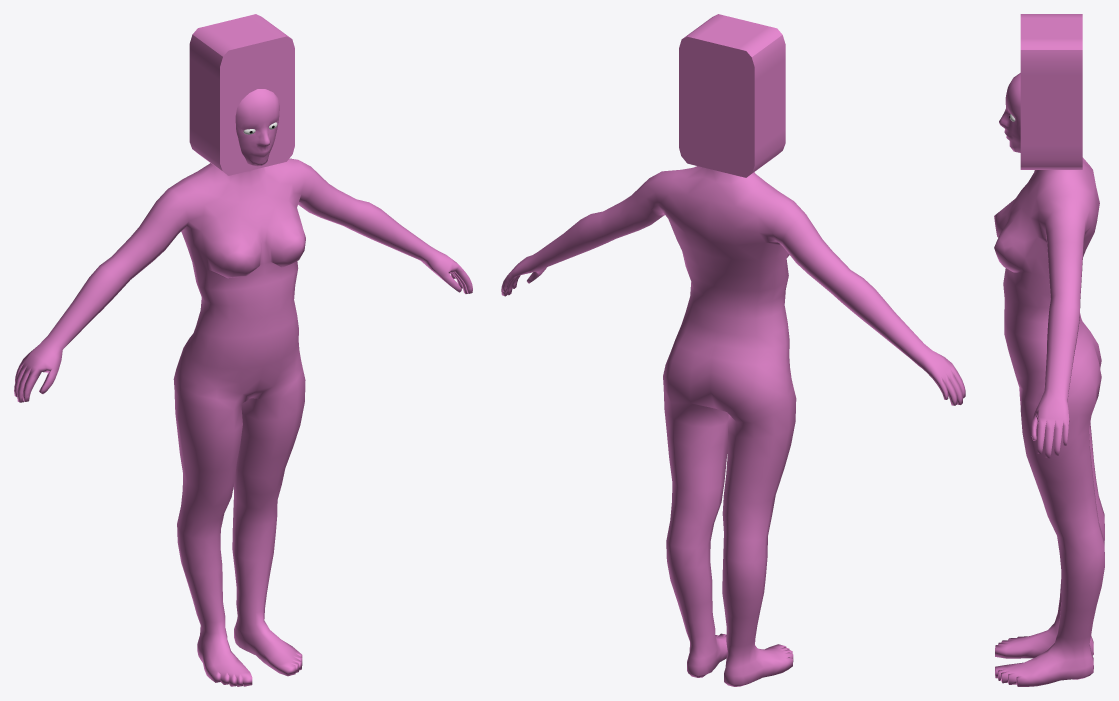
File: The Wife.fbx
The picture shows the model from 3 angles, left to right: view 1: azimuth 30°, elevation 25°; view 2: azimuth 150°, elevation 25°; view 3: azimuth 270°, elevation 25°; orthographic projection.
Parts seen in each view (by area): view 1: CharacterFemale:woman, pCube1; view 2: CharacterFemale:woman, pCube1; view 3: CharacterFemale:woman, pCube1.
Part boxes in pixels (x1=…): CharacterFemale:woman: x1=14, y1=89, x2=472, y2=686; pCube1: x1=189, y1=14, x2=294, y2=175; CharacterFemale:woman: x1=501, y1=166, x2=965, y2=686; pCube1: x1=679, y1=14, x2=785, y2=177; CharacterFemale:woman: x1=994, y1=73, x2=1104, y2=686; pCube1: x1=1020, y1=14, x2=1082, y2=169.
Size of the model in its own units: 138 by 185 by 29.05.
